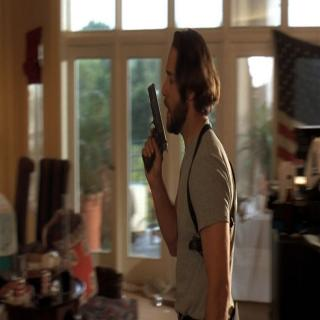gun: (136, 77, 170, 171)
